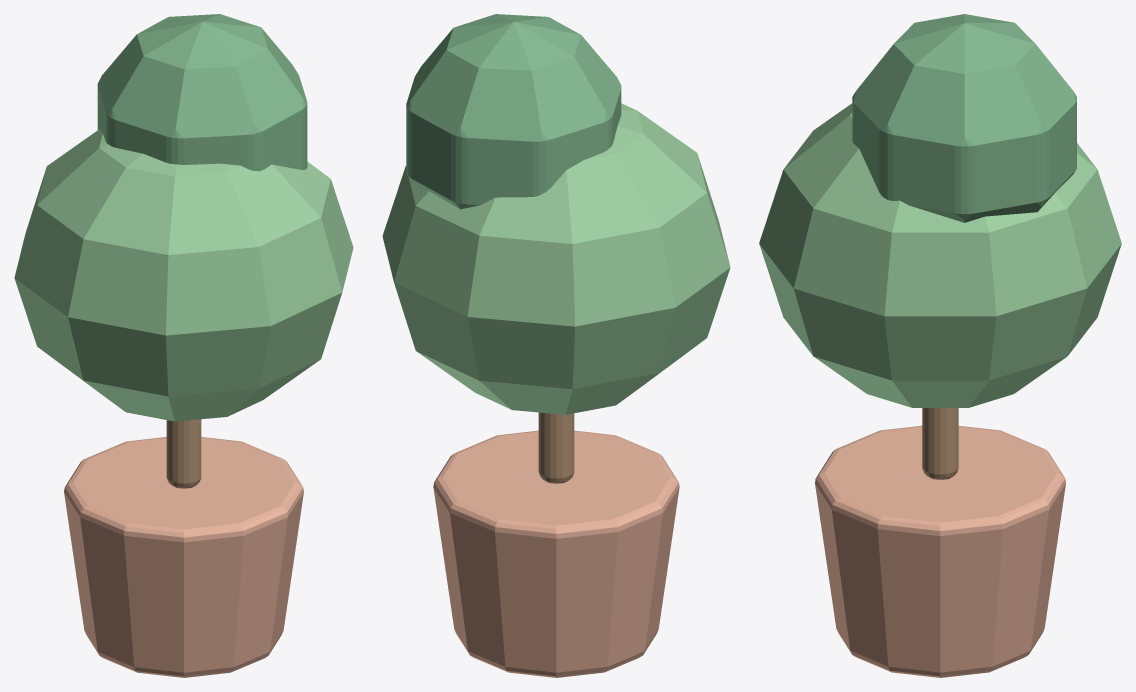
File: Plant.fbx
3 views of the same model, side by side, from view 1: azimuth 30°, elevation 25°; view 2: azimuth 150°, elevation 25°; view 3: azimuth 270°, elevation 25° (orthographic). The views are drawn at different scales.
Parts seen in each view (by area): view 1: Plant; view 2: Plant; view 3: Plant.
Boxes of the visible parts, left/top/right/bottom form: Plant: left=14, top=14, right=353, bottom=677; Plant: left=382, top=14, right=730, bottom=677; Plant: left=759, top=14, right=1121, bottom=677.
Size of the model in its own units: 0.5706 by 1.15 by 0.6.
